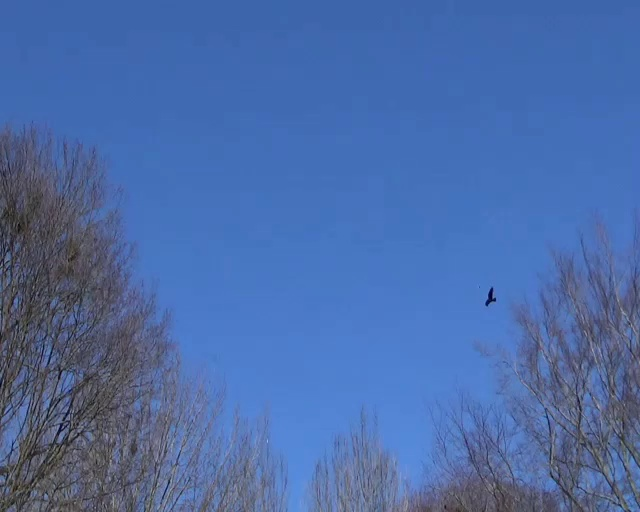BIRD: (485, 285, 497, 307)
